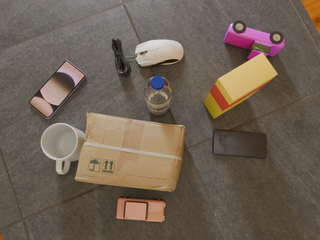bottle: (144, 76, 172, 115)
box: (75, 113, 187, 192), (203, 53, 277, 119)
cup: (41, 123, 85, 174)
mouse: (134, 40, 184, 66)
phone: (29, 61, 86, 119), (212, 130, 266, 158)
toy_car: (224, 21, 285, 60), (116, 197, 165, 222)
